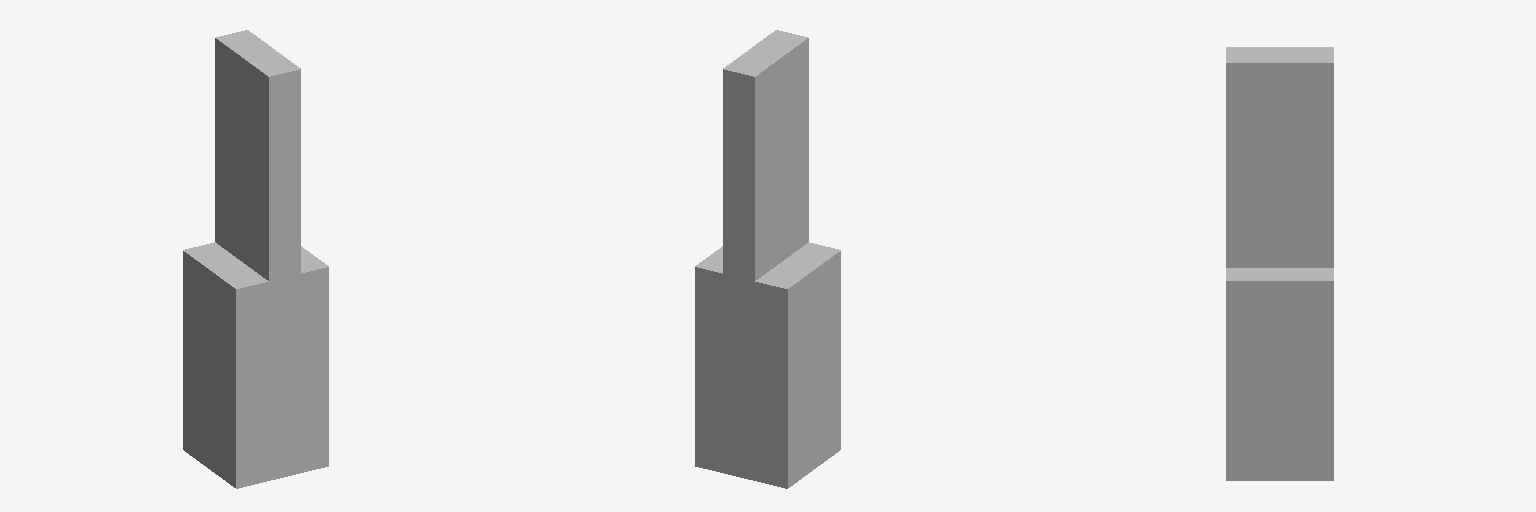
The model's file is twoWhite.obj.
3 views of the same model, side by side, from view 1: azimuth 30°, elevation 25°; view 2: azimuth 150°, elevation 25°; view 3: azimuth 270°, elevation 25° (orthographic).
Size of the model in its own units: 20 by 83 by 20.